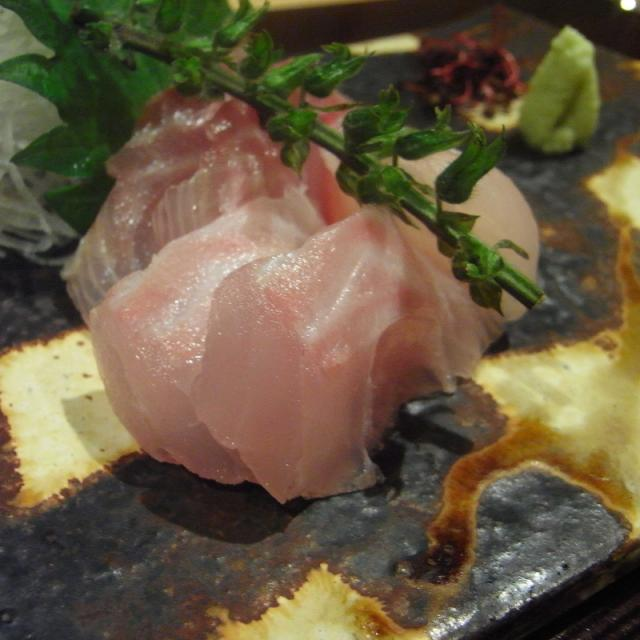刺身生食: (14, 13, 634, 587)
